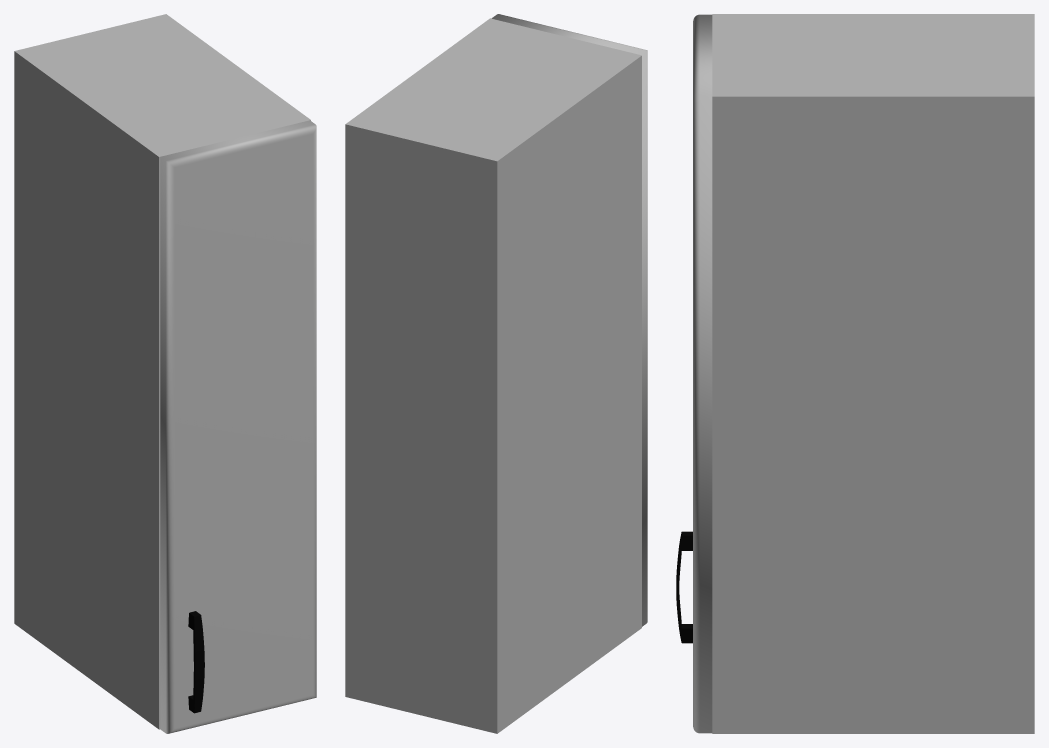
3 views of the same model, side by side, from view 1: azimuth 30°, elevation 25°; view 2: azimuth 150°, elevation 25°; view 3: azimuth 270°, elevation 25° (orthographic). The views are drawn at different scales.
Parts seen in each view (by area): view 1: Box001, Box011, Obj3d66-503491-2-344; view 2: Box001, Box011; view 3: Box001, Box011, Obj3d66-503491-2-344.
Part boxes in pixels (box(x1,y1,x2,y2)): Box001: box(14, 14, 310, 729); Box011: box(160, 120, 316, 733); Obj3d66-503491-2-344: box(188, 611, 204, 713); Box001: box(345, 18, 641, 733); Box011: box(491, 14, 647, 626); Box001: box(712, 14, 1034, 733); Box011: box(693, 14, 712, 733); Obj3d66-503491-2-344: box(676, 531, 692, 643).
Bounding box in the file's own units: 0.2 × 0.72 × 0.3671.
Materials: 2 (1 with a texture image).
